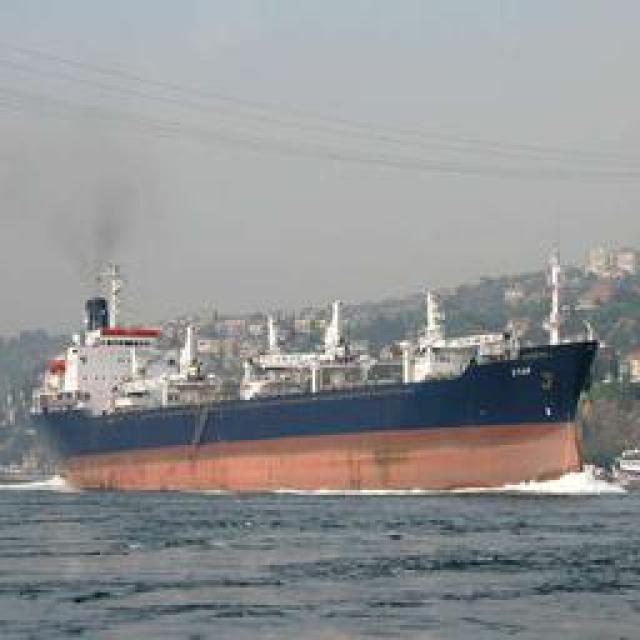Ship: (30, 263, 603, 488)
